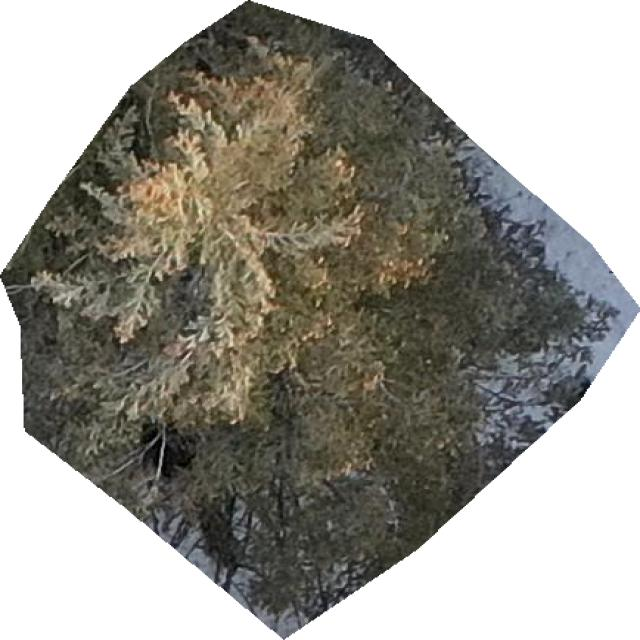spruce: (0, 1, 606, 639)
